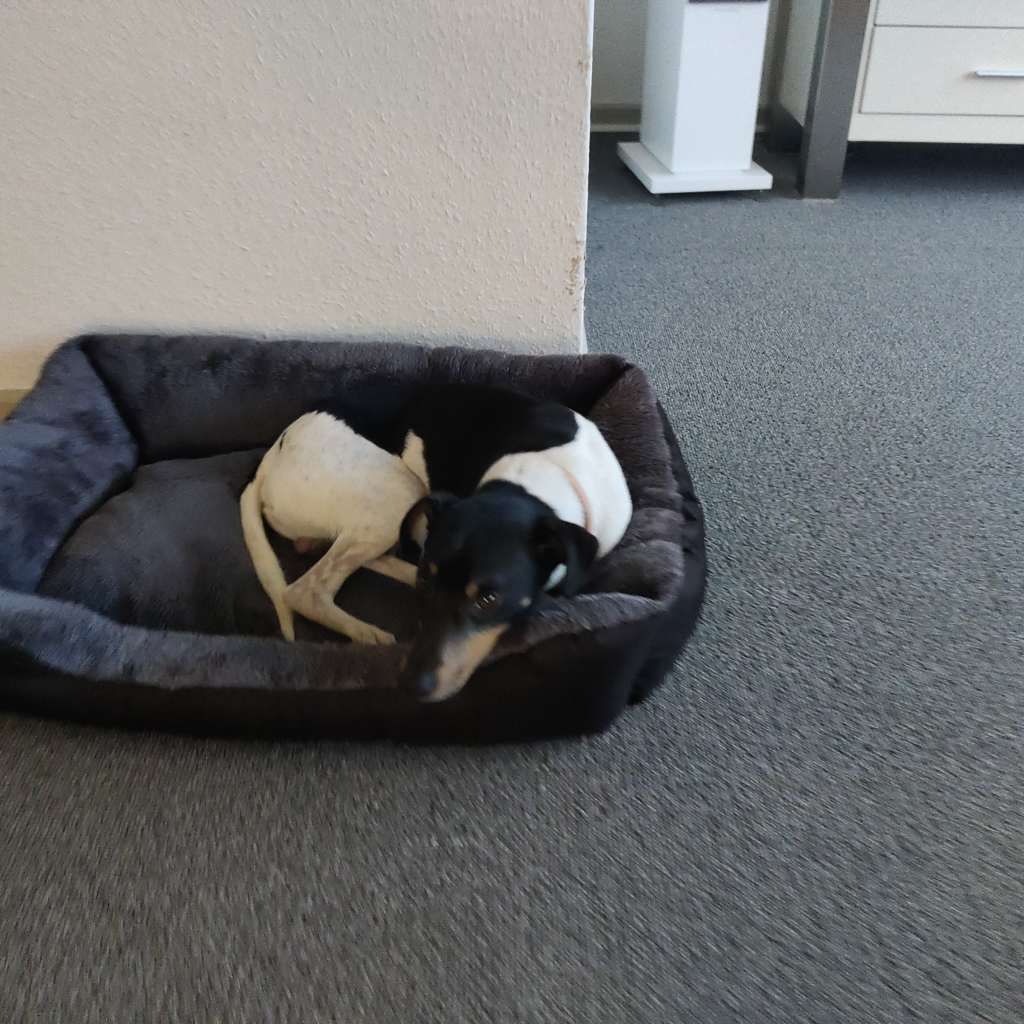Dog: (175, 345, 673, 759)
